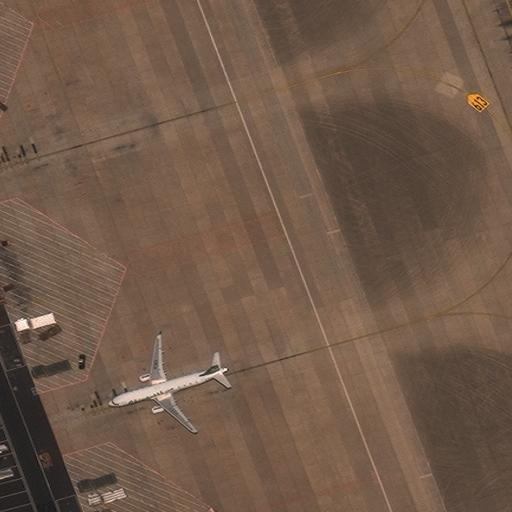Medium Civil Transport: (104, 335, 232, 433)
